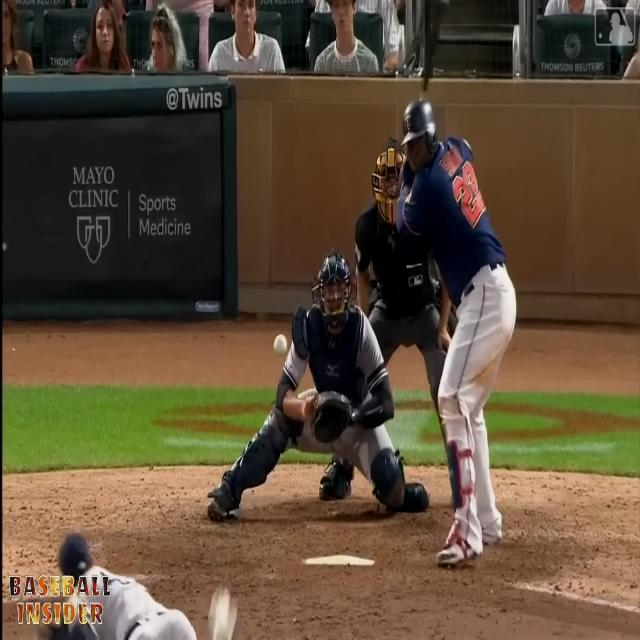ball: (272, 333, 290, 357)
